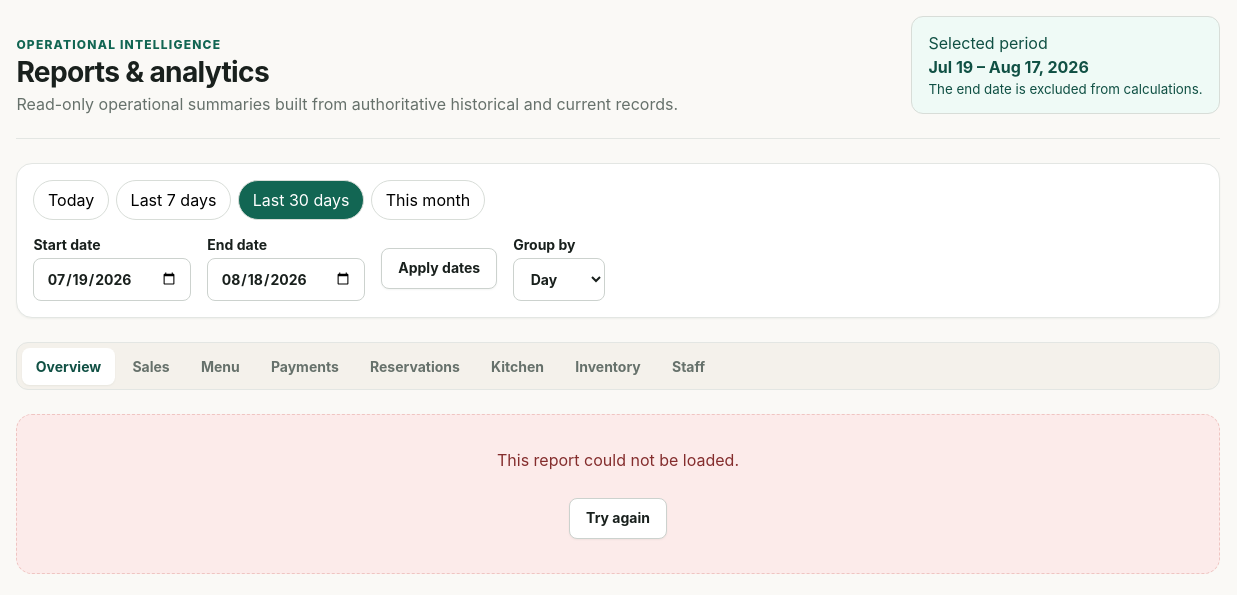
reports page › keeps report errors controlled and retries them
Check: the message shows "could not be loaded", box [497,450,739,470]
Click the button "Try again" at (618, 518), box [569,498,667,539]
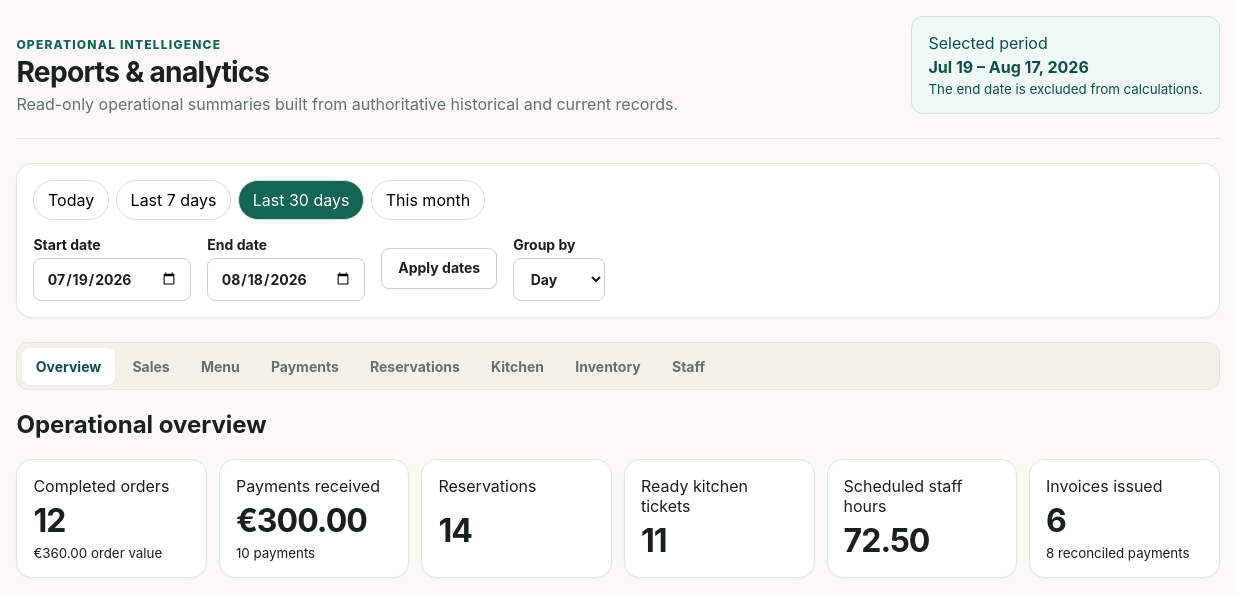
Check: the heading "Operational overview" is shown, box [16,410,267,439]
